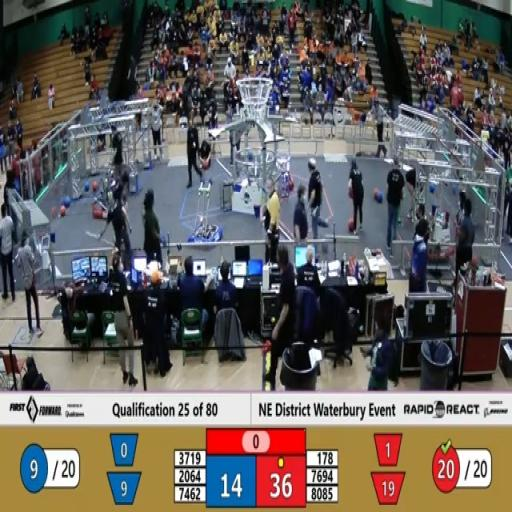robot: (182, 176, 227, 259), (97, 116, 136, 196), (86, 157, 126, 226), (422, 200, 458, 274), (266, 140, 296, 199)
